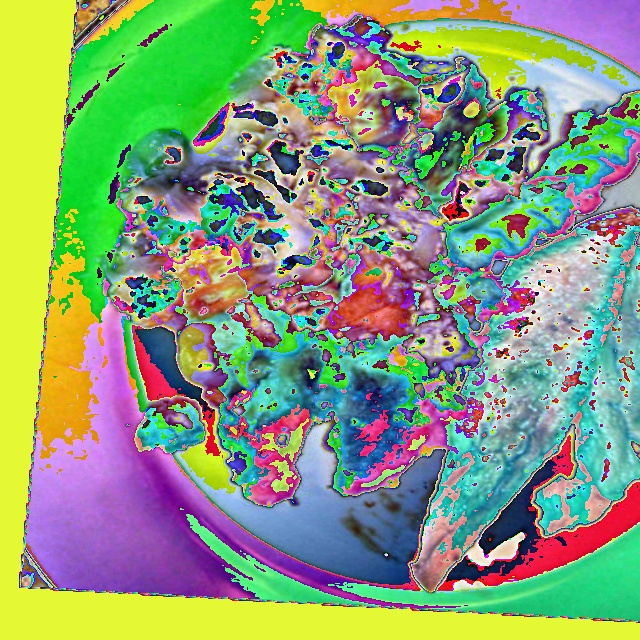background: (107, 14, 639, 592), (70, 58, 206, 454)
